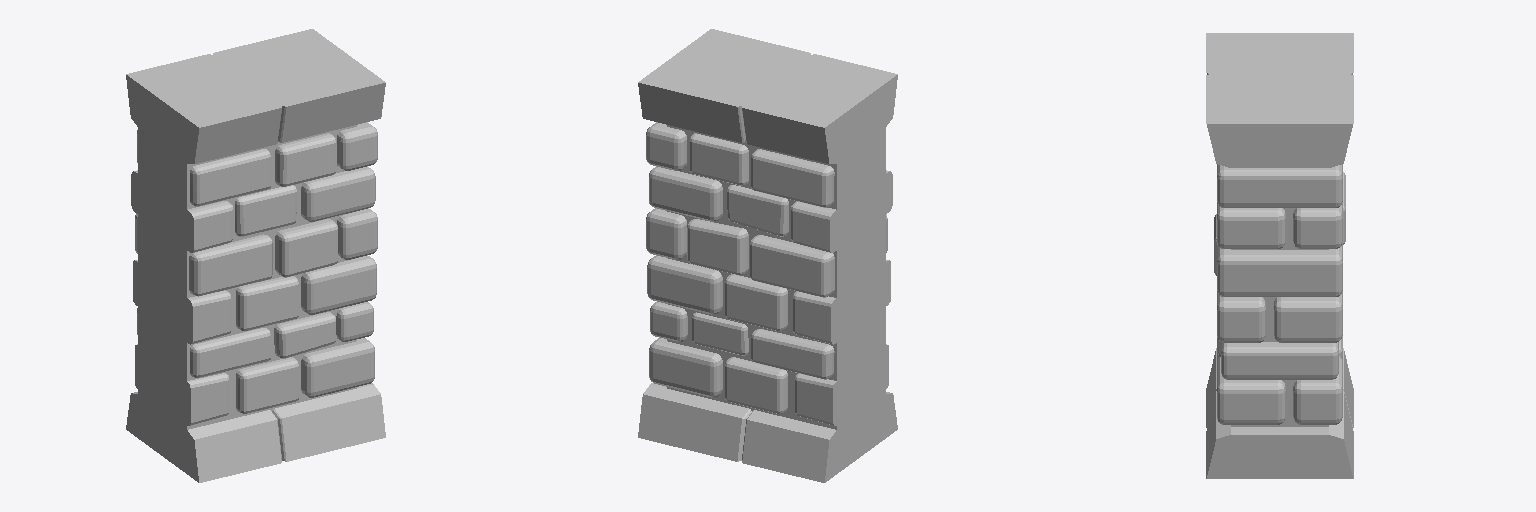
The model's file is wall_end.obj.
The picture shows the model from 3 angles: view 1: azimuth 30°, elevation 25°; view 2: azimuth 150°, elevation 25°; view 3: azimuth 270°, elevation 25°; orthographic projection.
Visible parts, largest first — view 1: wall_end_Cube.2613; view 2: wall_end_Cube.2613; view 3: wall_end_Cube.2613.
Part boxes in pixels (x1,y1,x2,y2): wall_end_Cube.2613: (126, 29, 385, 482); wall_end_Cube.2613: (638, 29, 897, 482); wall_end_Cube.2613: (1206, 33, 1353, 478).
Bounding box in the file's own units: 2.2 × 4 × 1.5.